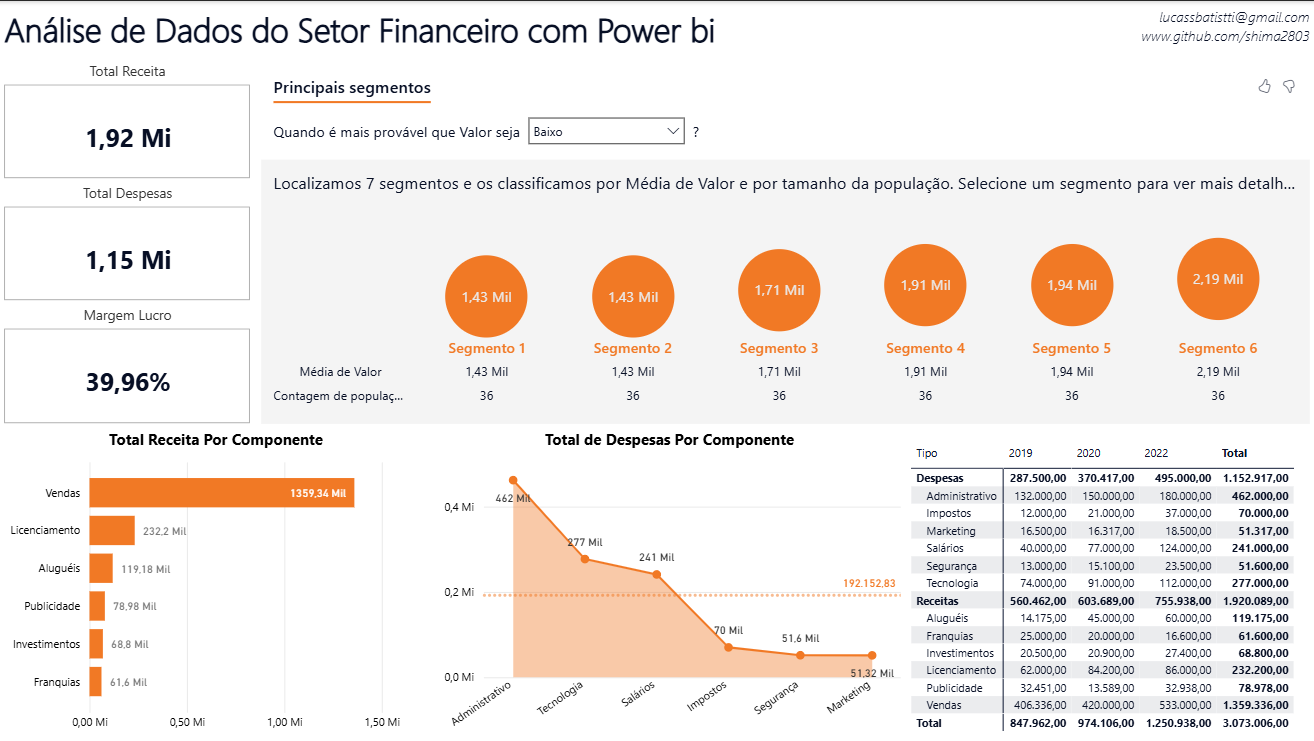

The dashboard page shown, as its layout file describes it:
{"tool":"powerbi","page":{"name":"Overview","canvas":[1280,720],"ordinal":0},"visuals":[{"type":"cardVisual","title":"Total Receita","fields":{"Data":["Medida.TotalReceita"]},"box":[0,59.3,250,118.7],"z":0},{"type":"cardVisual","title":"Total Despesas","fields":{"Data":["Medida.TotalDespesas"]},"box":[0,178,250,118.7],"z":1000},{"type":"cardVisual","title":"Margem Lucro","fields":{"Data":["Medida.MargemLucro"]},"box":[0,296.7,250,119.6],"z":2000},{"type":"clusteredBarChart","title":"Total Receita Por Componente","fields":{"Category":["DadosFinanceiros.Componente"],"Y":["Medida.TotalReceita"]},"box":[0,416.3,422.1,303.5],"z":3000},{"type":"areaChart","title":"Total de Despesas Por Componente","fields":{"Category":["DadosFinanceiros.Componente"],"Y":["Medida.TotalDespesas"]},"box":[422.1,416.3,460.1,303.5],"z":4000},{"type":"pivotTable","fields":{"Rows":["DadosFinanceiros.Tipo","DadosFinanceiros.Componente"],"Values":["Sum(DadosFinanceiros.Valor)"],"Columns":["DadosFinanceiros.Data.Variation.Hierarquia de datas.Ano"]},"box":[882.2,425,397.8,294.7],"z":5000},{"type":"keyDriversVisual","fields":{"Target":["DadosFinanceiros.Valor"],"ExplainBy":["DadosFinanceiros.Tipo","DadosFinanceiros.Componente"]},"box":[250,59.3,1030,357],"z":6000},{"type":"textbox","box":[0,0,863.7,59.3],"z":7000},{"type":"textbox","box":[1004.7,0,275.3,59.3],"z":8000}]}

Visuals, with their boxes in screenshot pixels (x1, y1, x2, y2), scaled from the page's 1280x720 canvas onto the 1314x741 screenshot:
"Total Receita" cardVisual: <region>0, 61, 257, 183</region>
"Total Despesas" cardVisual: <region>0, 183, 257, 305</region>
"Margem Lucro" cardVisual: <region>0, 305, 257, 428</region>
"Total Receita Por Componente" clusteredBarChart: <region>0, 428, 433, 740</region>
"Total de Despesas Por Componente" areaChart: <region>433, 428, 906, 740</region>
pivotTable - DadosFinanceiros.Tipo x DadosFinanceiros.Componente: <region>906, 437, 1313, 740</region>
keyDriversVisual - DadosFinanceiros.Valor x DadosFinanceiros.Tipo: <region>257, 61, 1313, 428</region>
textbox: <region>0, 0, 887, 61</region>
textbox: <region>1031, 0, 1313, 61</region>
